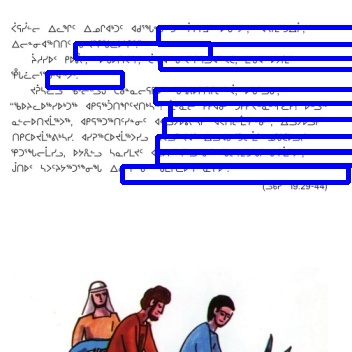inuktitut: (7, 111, 322, 128), (9, 95, 332, 111), (8, 19, 308, 36), (7, 128, 307, 144), (7, 144, 307, 158), (9, 158, 235, 174), (27, 82, 283, 96), (28, 53, 293, 64), (7, 36, 143, 51), (10, 65, 85, 80)
